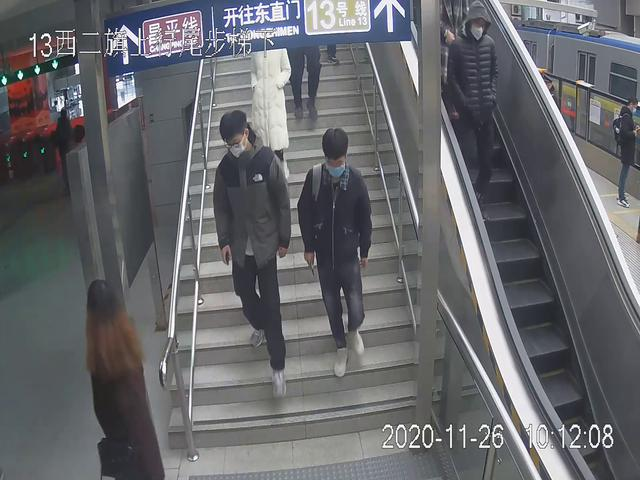person: (211, 109, 293, 401), (294, 128, 374, 375), (86, 278, 167, 480), (447, 2, 504, 211)
